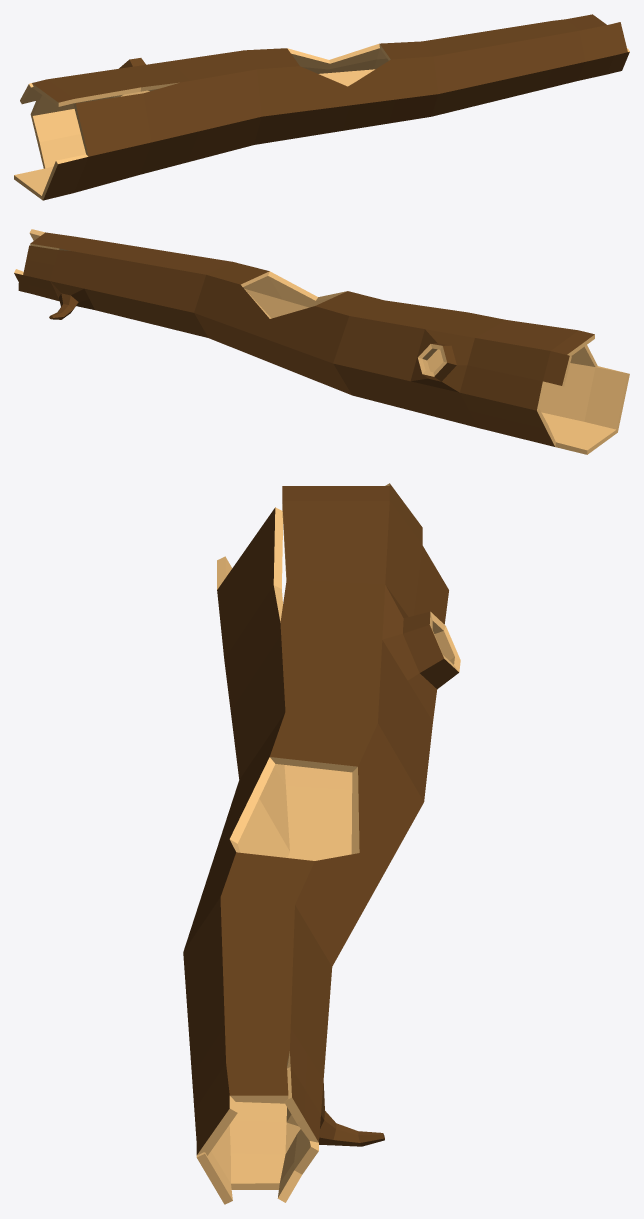
The model's file is TRONCO01.fbx.
3 views of the same model, one above another, from view 1: azimuth 30°, elevation 25°; view 2: azimuth 150°, elevation 25°; view 3: azimuth 270°, elevation 25° (orthographic). The views are drawn at different scales.
Parts seen in each view (by area): view 1: Circle; view 2: Circle; view 3: Circle.
Boxes of the visible parts, x1=… form: Circle: x1=14, y1=14, x2=629, y2=200; Circle: x1=14, y1=229, x2=629, y2=454; Circle: x1=183, y1=483, x2=460, y2=1204.
Bounding box in the file's own units: 1253 × 193 × 265.
